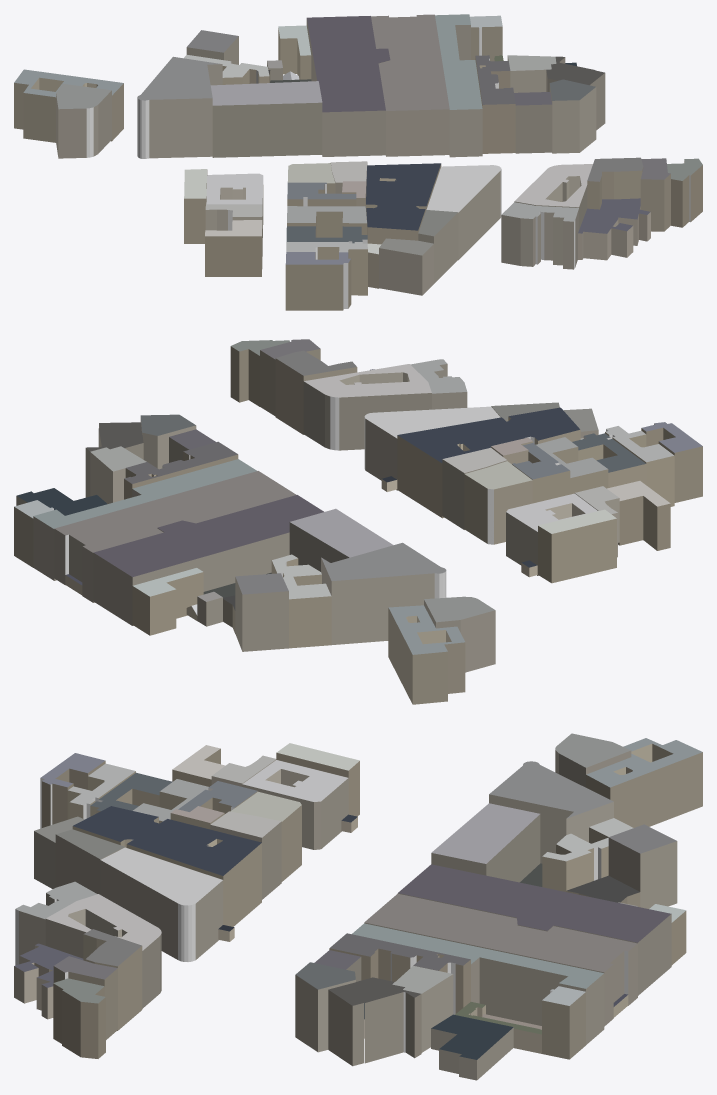
3 views of the same model, one above another, from view 1: azimuth 30°, elevation 25°; view 2: azimuth 150°, elevation 25°; view 3: azimuth 270°, elevation 25° (orthographic). The views are drawn at different scales.
Visible parts, largest first — view 1: tuile; view 2: tuile; view 3: tuile.
Part boxes in pixels (left/top/right/bottom): tuile: left=14, top=14, right=702, bottom=310; tuile: left=14, top=339, right=702, bottom=704; tuile: left=14, top=733, right=702, bottom=1080.
Bounding box in the file's own units: 282 × 36.69 × 292.
